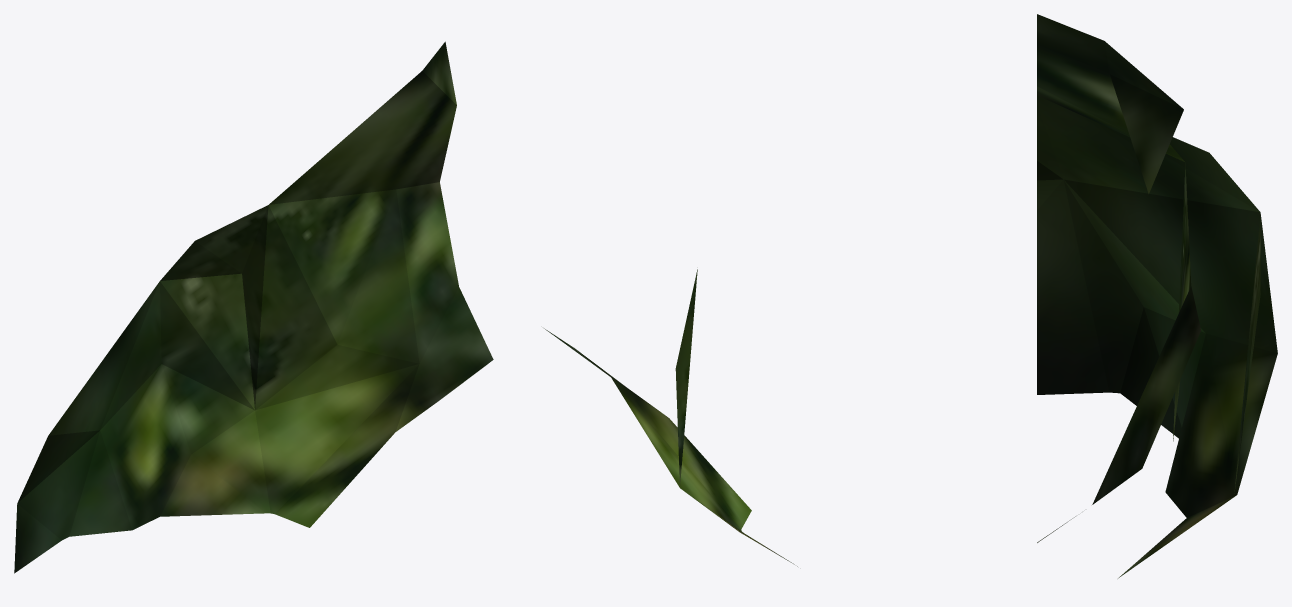
The picture shows the model from 3 angles, left to right: view 1: azimuth 30°, elevation 25°; view 2: azimuth 150°, elevation 25°; view 3: azimuth 270°, elevation 25°; orthographic projection. The views are drawn at different scales.
Size of the model in its own units: 0.2968 by 0.2937 by 0.0896.
Materials: 1 (1 with a texture image).
